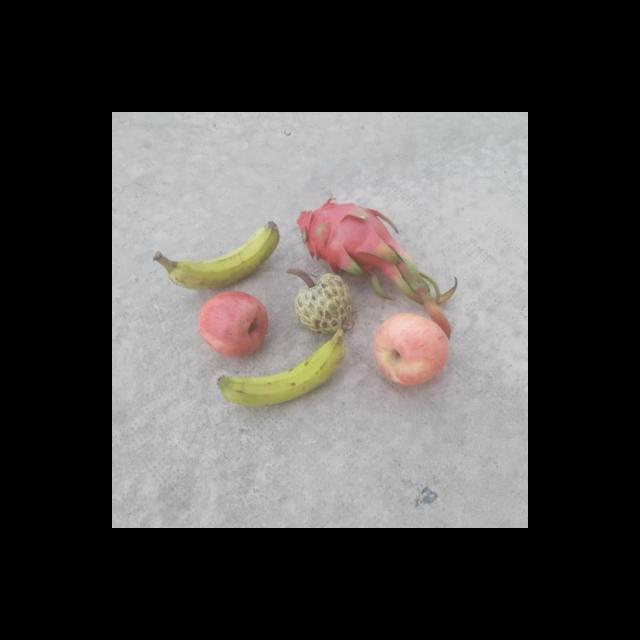Sakya fruit: (288, 270, 352, 334)
apple: (372, 308, 452, 392), (190, 285, 276, 358)
banana: (150, 216, 286, 288), (211, 336, 346, 404)
pitaya: (292, 194, 402, 268)
